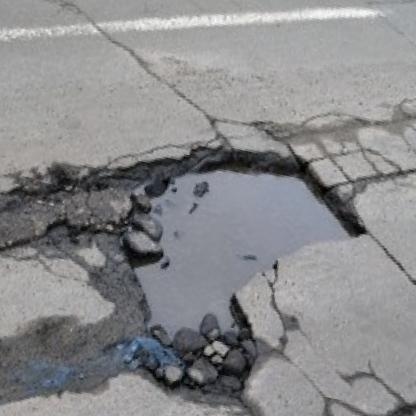pothole: (73, 121, 376, 416)
